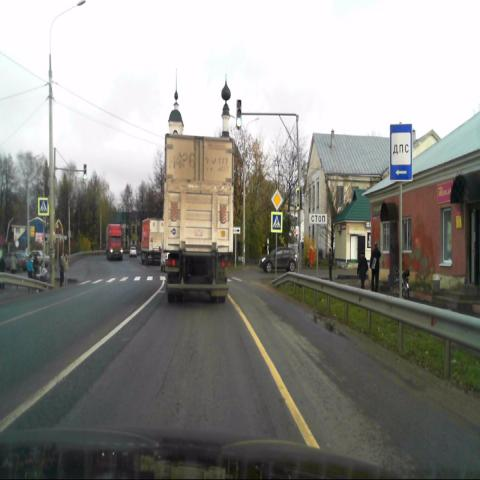7_12: (389, 123, 412, 181)
